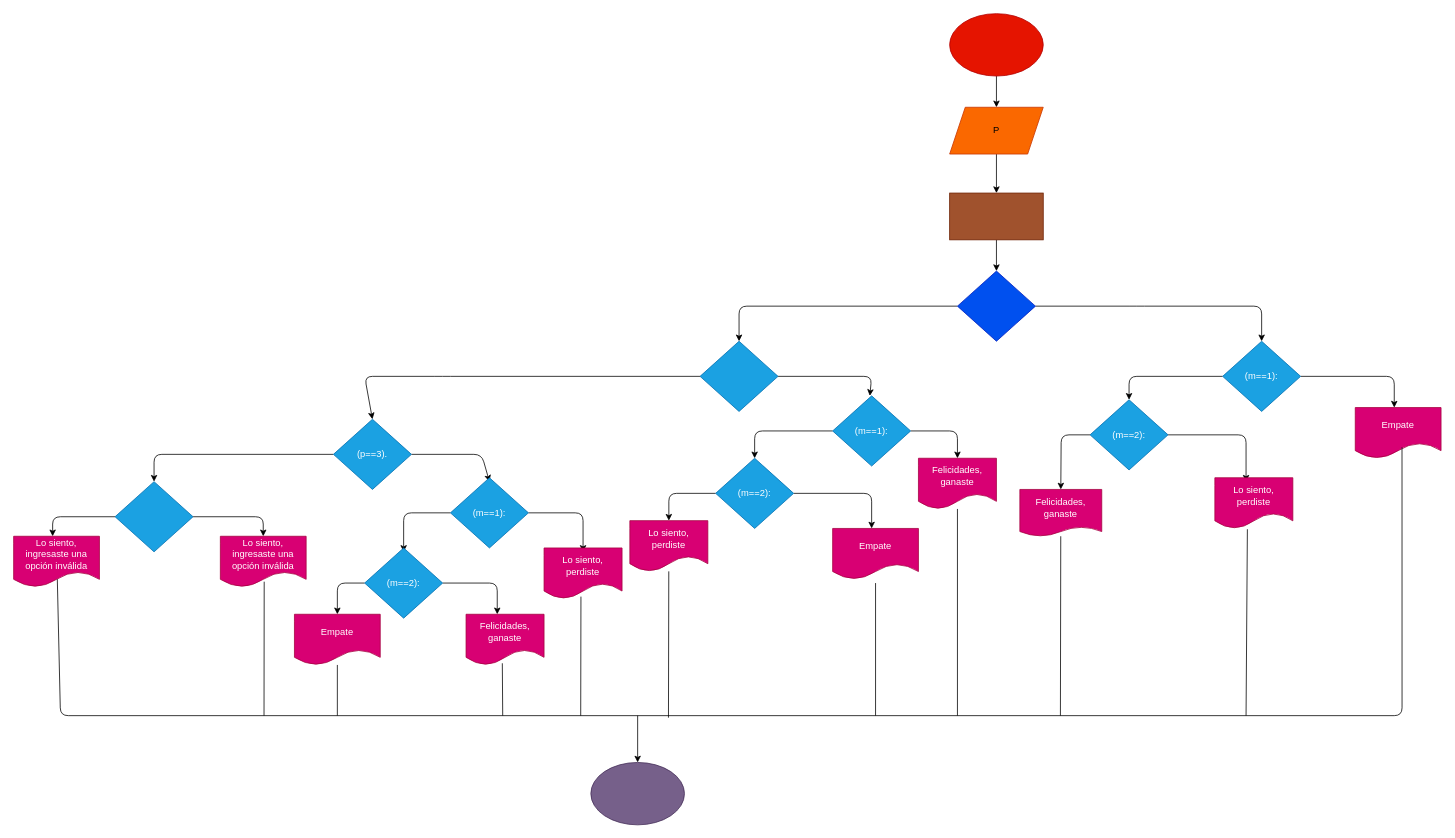
The diagram is 1455 pixels wide and 838 high, and some of its shapes have lost their labels. Each missing label, with the centre of its shape:
(j==1):: pixel 996 305
(p==2):: pixel 738 375
(p> 4):: pixel 153 516
Fin: pixel 637 793
Inicio: pixel 996 44
M = random.randint(1,3): pixel 996 216
